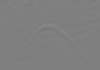hyperbola: (24, 23, 79, 56)
